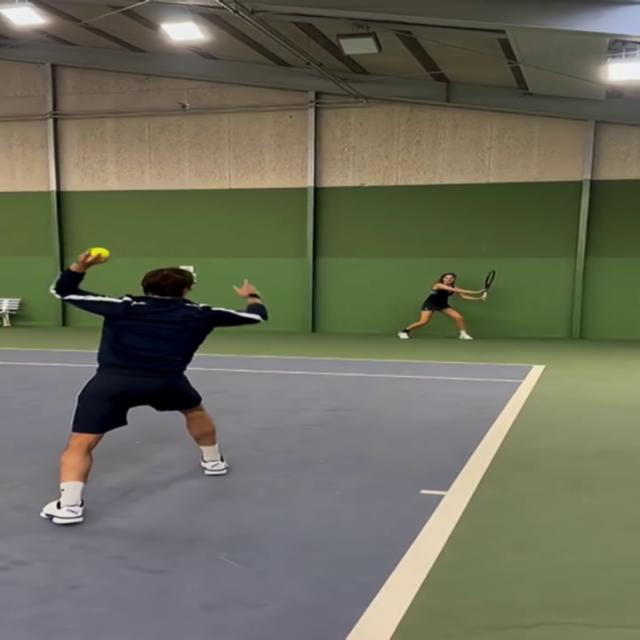tennis_ball: (91, 250, 106, 257)
